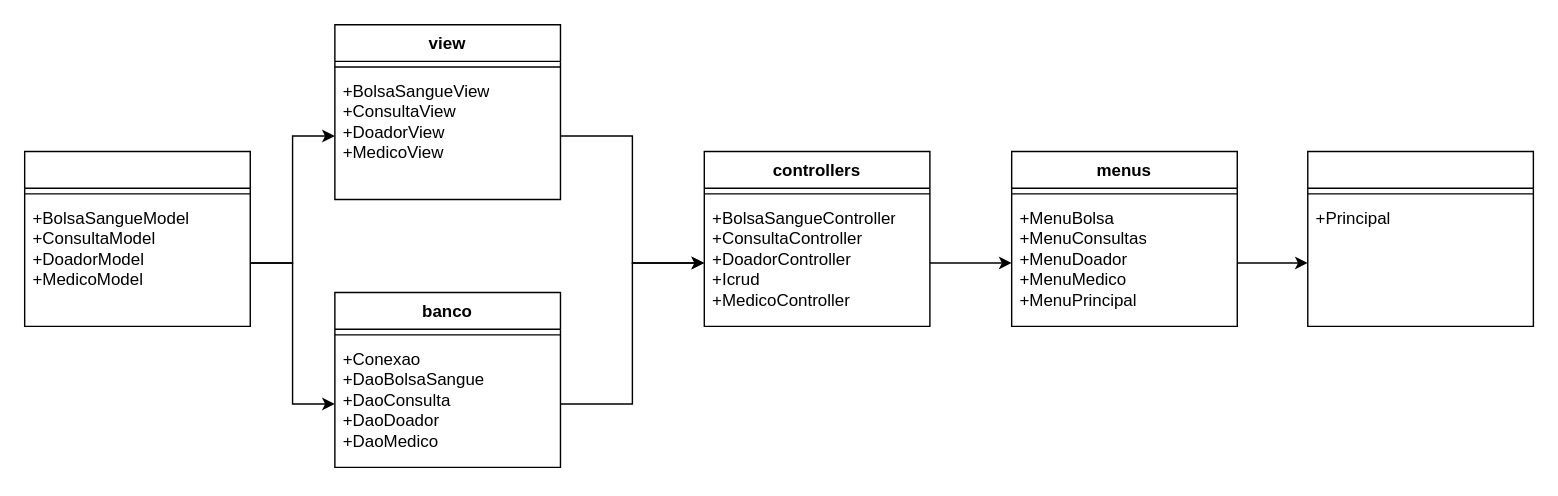
Some shapes in this 1558 by 496 pixel diagram are drawn without their labels. Each missing label, with the box of its shape:
main: (1306, 150, 1533, 326)
models: (23, 150, 250, 326)
